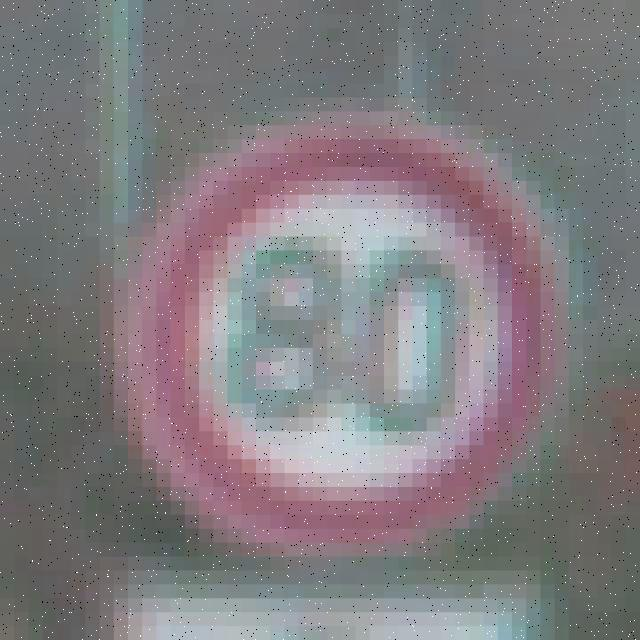Ograniczenie predkosci do 80: (154, 128, 553, 552)
